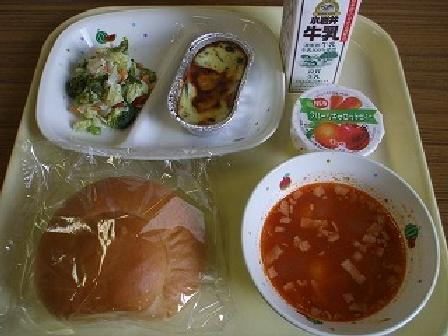Bread: (15, 152, 231, 332)
Cup desserts: (281, 77, 388, 166)
Milk: (268, 0, 367, 95)
Salad: (58, 38, 157, 130)
Soups: (239, 157, 439, 334)
casserole with meat and vegetables: (157, 27, 267, 134)
